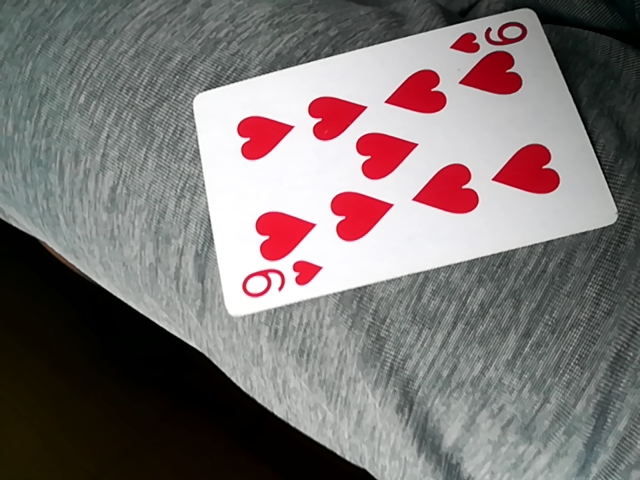hx 9: (195, 11, 613, 318)
